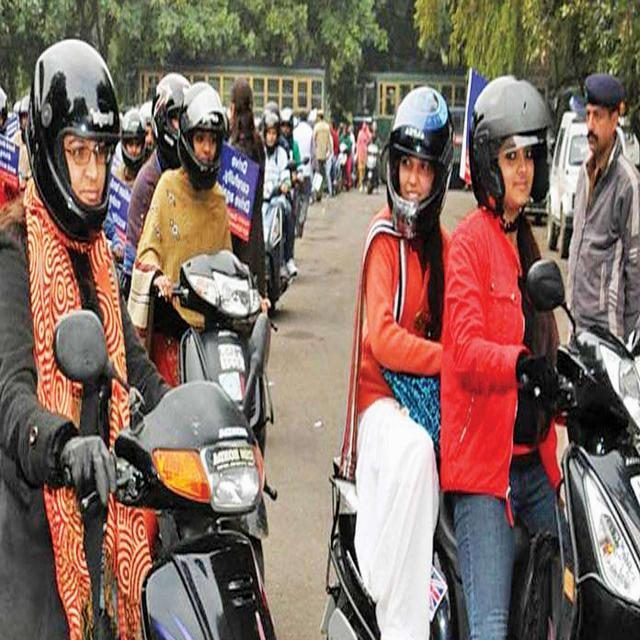helmet: (18, 42, 122, 238), (470, 76, 551, 215), (381, 87, 452, 234), (182, 82, 228, 186), (151, 70, 183, 156), (118, 113, 146, 170), (258, 112, 280, 150), (278, 108, 294, 126)
